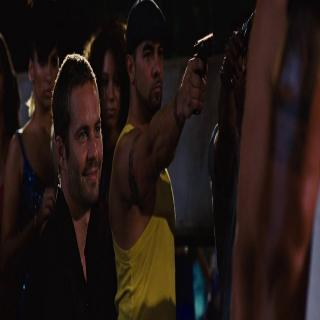gun: (185, 31, 222, 110)
